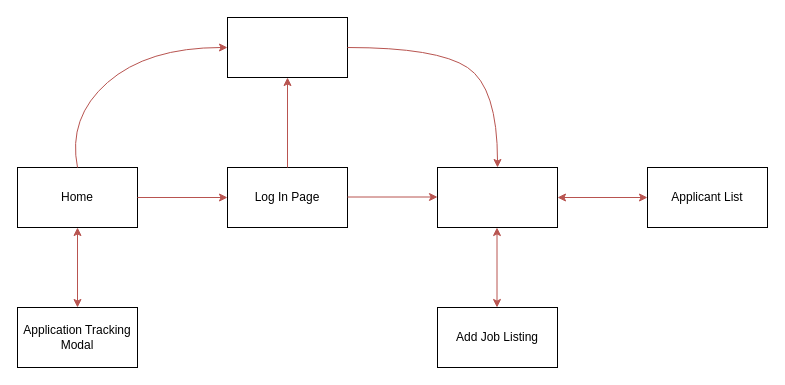
The diagram is 785 pixels wide and 385 high, and some of its shapes have lost their labels. Here are the shapes that lost their labels. From the top down, the box of each, then its label:
(226, 16, 348, 78): Sign Up
(436, 166, 558, 228): HR Homepage
